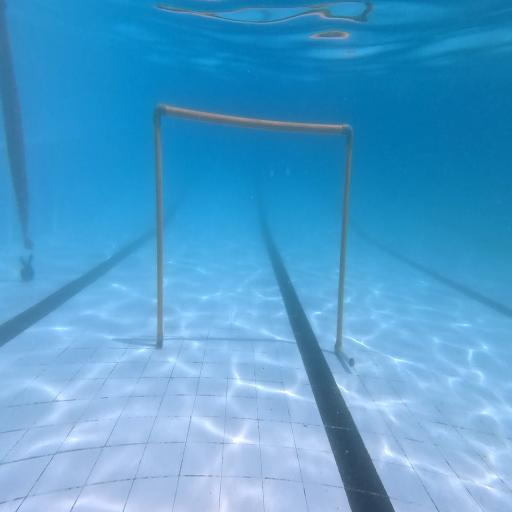gate: (154, 105, 354, 368)
